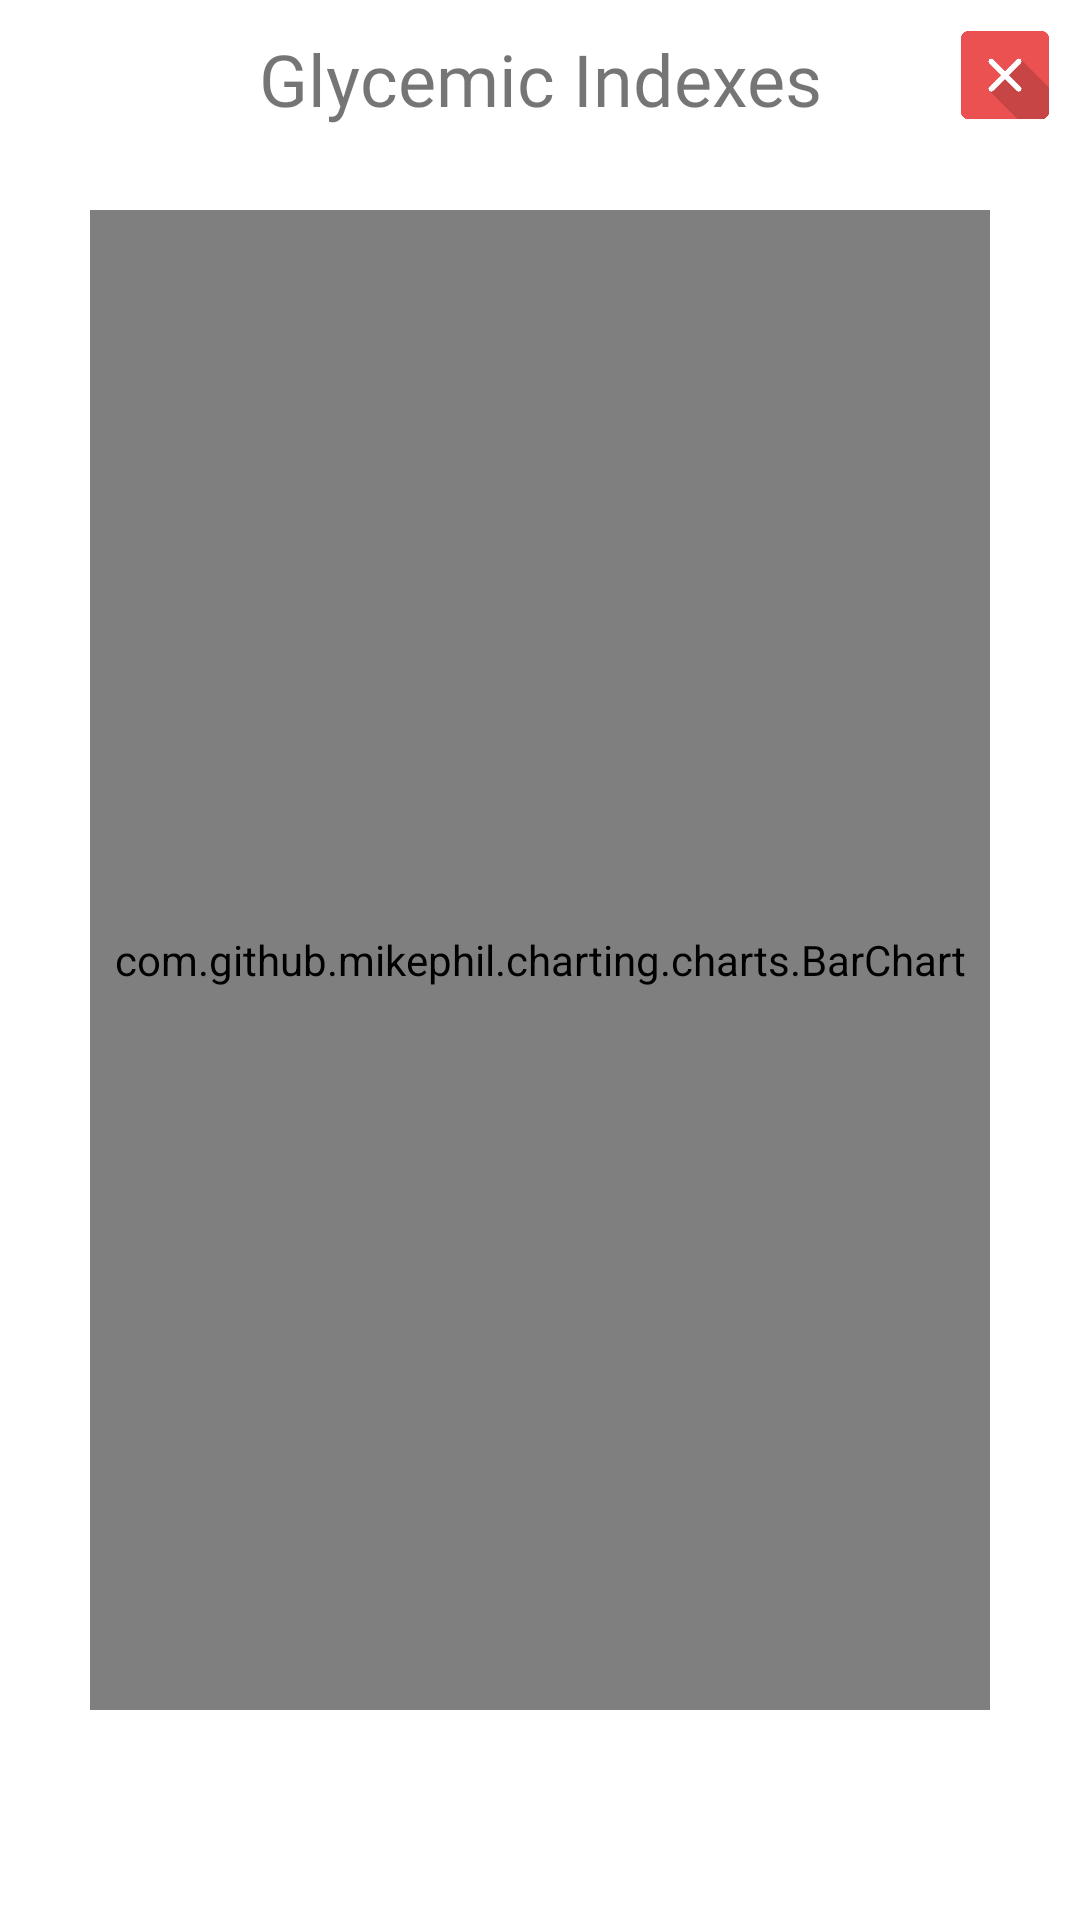

Icons on this 1080×1920 Android screen, each with the point to tap as [x,y]:
Close Button: [1005,75]
